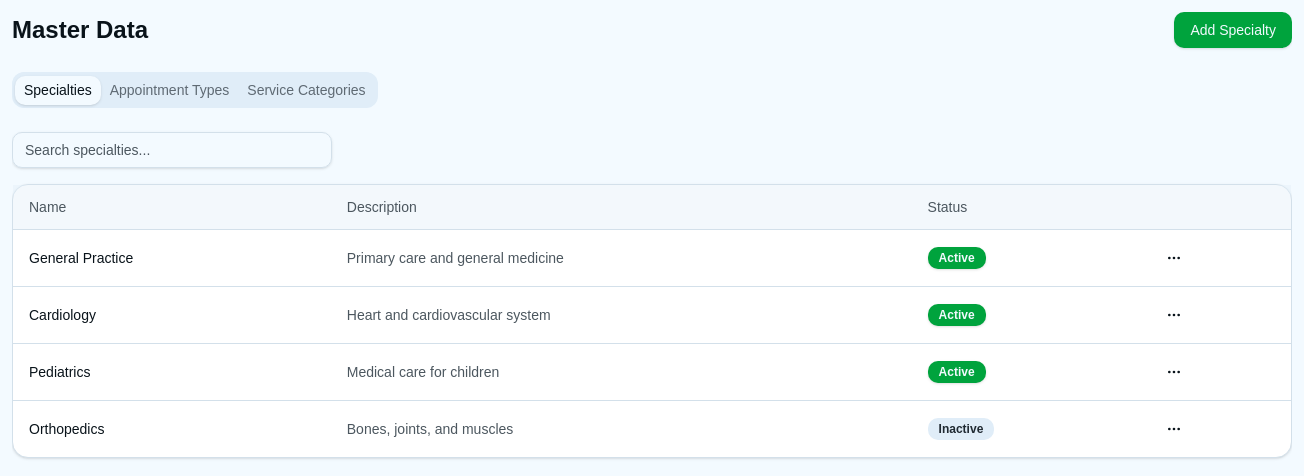
it: MasterDataPage › switching to Appointment Types tab shows correct data
This screenshot has width=1304, height=476.
Click the tab "Appointment Types" at (170, 90), box [101,76,238,104]
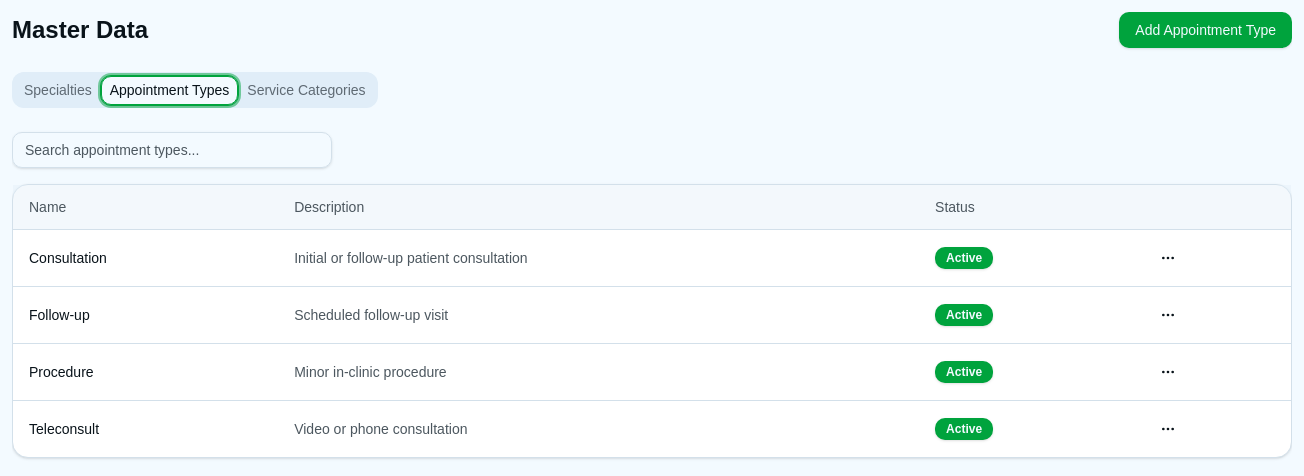
Result: the text "Consultation" is shown at [13,230,278,286]
Result: the text "Follow-up" is shown at [13,286,278,344]
